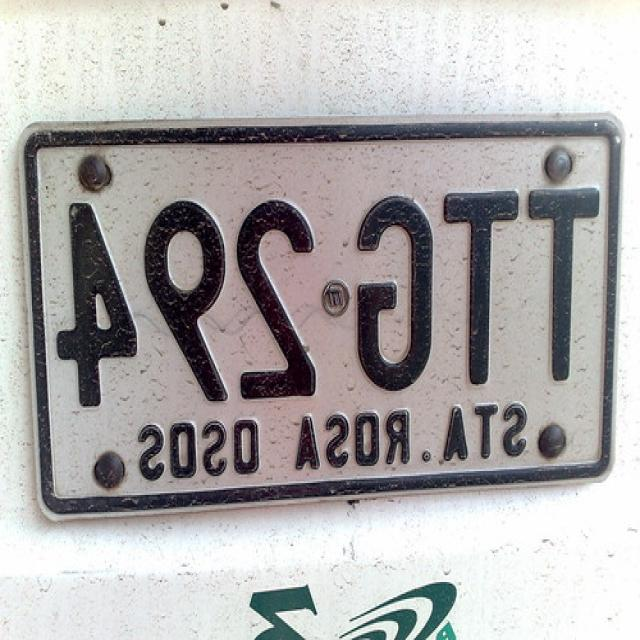placas: (44, 170, 611, 416)
